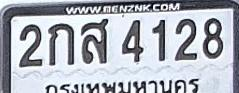1: (152, 19, 166, 61)
2: (19, 24, 42, 66), (175, 18, 196, 60)
4: (122, 19, 143, 62)
8: (202, 17, 222, 58)
A01: (48, 23, 74, 66)
A40: (80, 18, 108, 64)
BKK: (42, 80, 202, 93)
